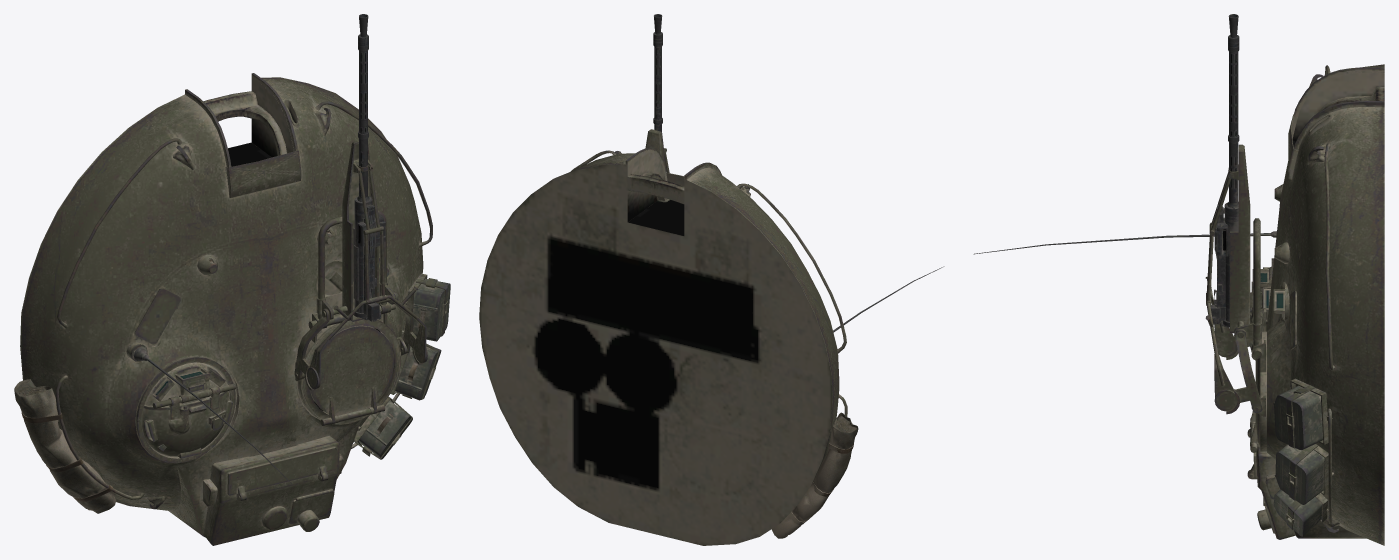
Rendered from Turret_01.glb.
3 renders of one model, left to right at view 1: azimuth 30°, elevation 25°; view 2: azimuth 150°, elevation 25°; view 3: azimuth 270°, elevation 25°, orthographic. The views are drawn at different scales.
Parts seen in each view (by area): view 1: set_0_group_0; view 2: set_0_group_0; view 3: set_0_group_0.
Boxes of the visible parts, box(x1,y1,x2,y2) form: set_0_group_0: box(14, 14, 450, 545); set_0_group_0: box(479, 14, 944, 545); set_0_group_0: box(973, 14, 1384, 545).
Bounding box in the file's own units: 2.85 × 3.41 × 2.38.
Materials: 1 (1 with a texture image).
